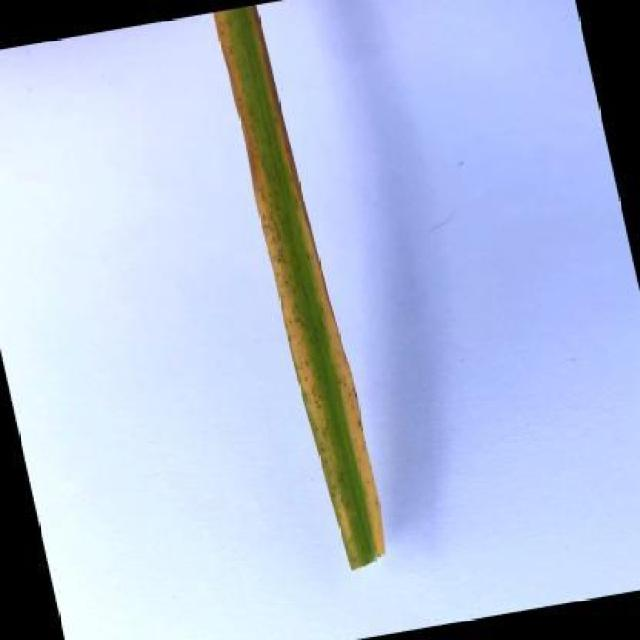Rice False Smut: (214, 6, 385, 569)
